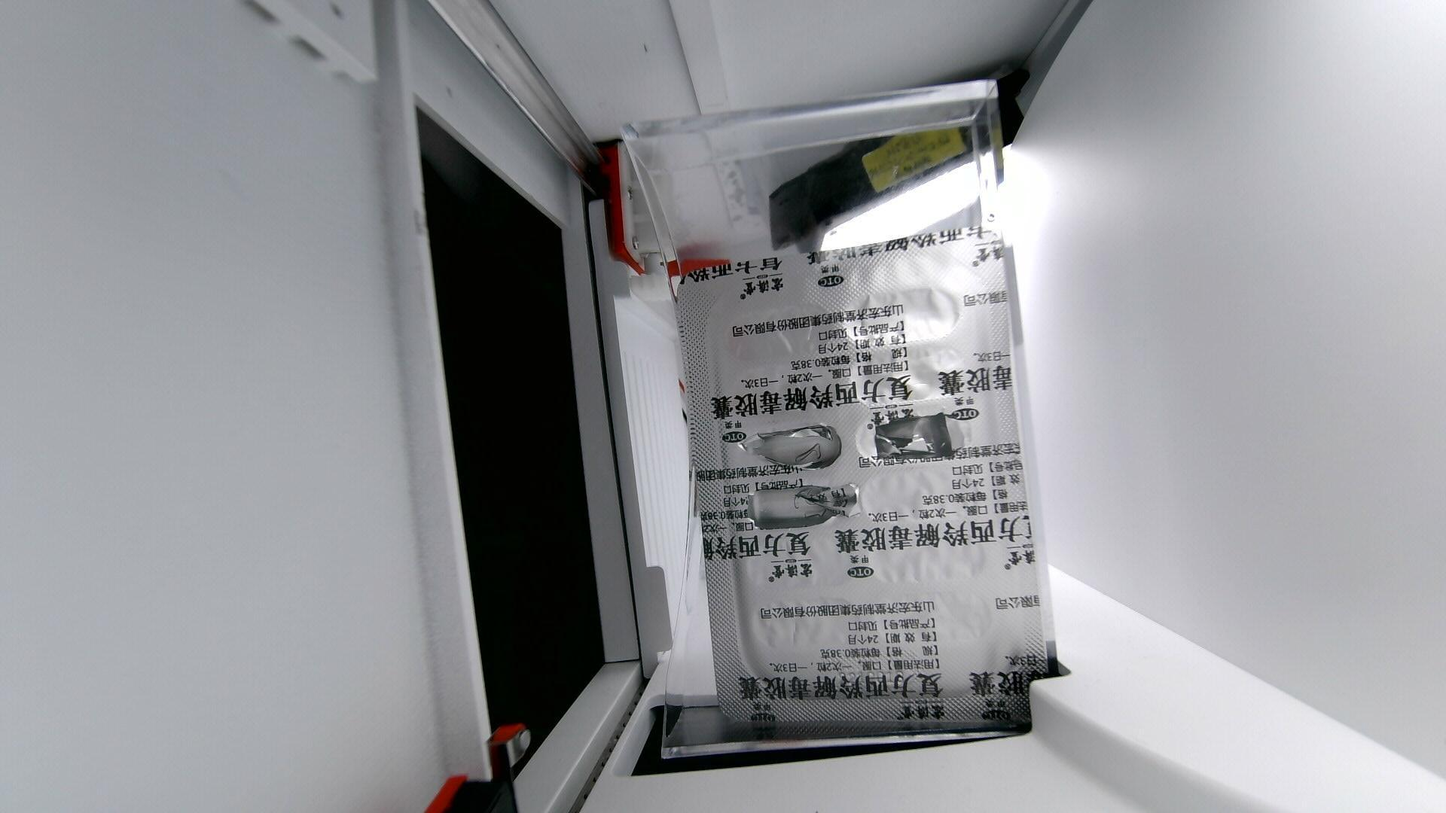No Pill Back: (740, 483, 862, 530), (740, 426, 847, 473), (864, 414, 974, 458)
Pill Back: (746, 598, 865, 654), (844, 349, 971, 401), (868, 527, 991, 580), (743, 534, 856, 589), (720, 365, 837, 417), (843, 288, 962, 338), (723, 304, 837, 355), (894, 637, 993, 693), (864, 472, 977, 521), (883, 591, 996, 637), (762, 652, 871, 693)
